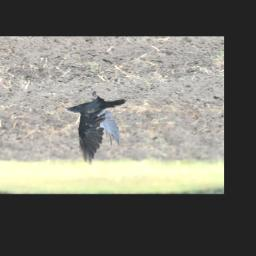Crow: (63, 90, 127, 167)
